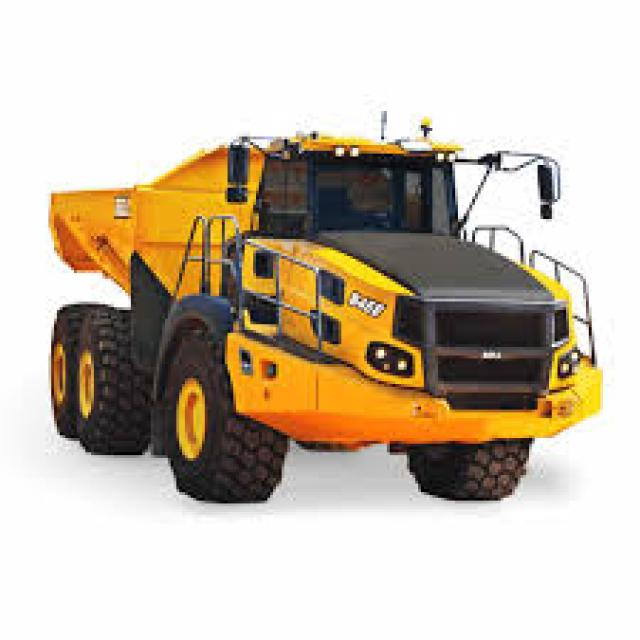dump_truck: (26, 102, 608, 529)
